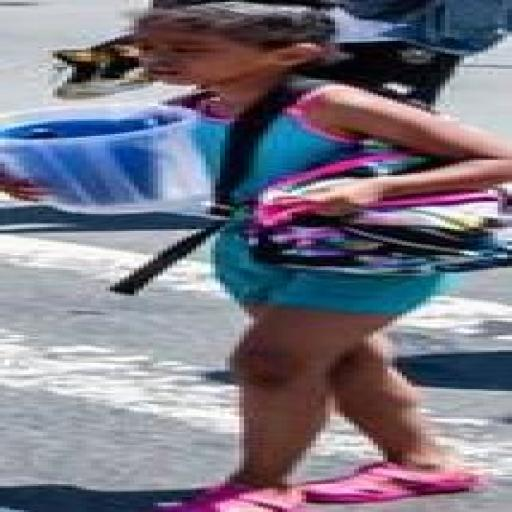person: (158, 209, 478, 511), (264, 0, 511, 106)
